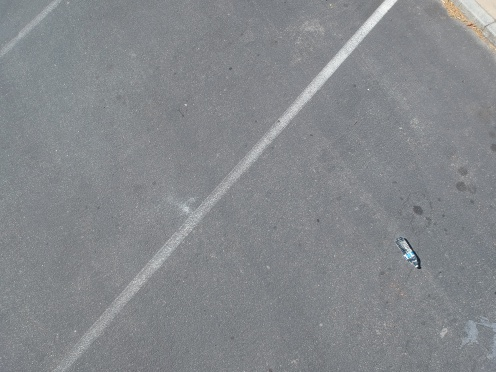bottle: (388, 234, 431, 275)
